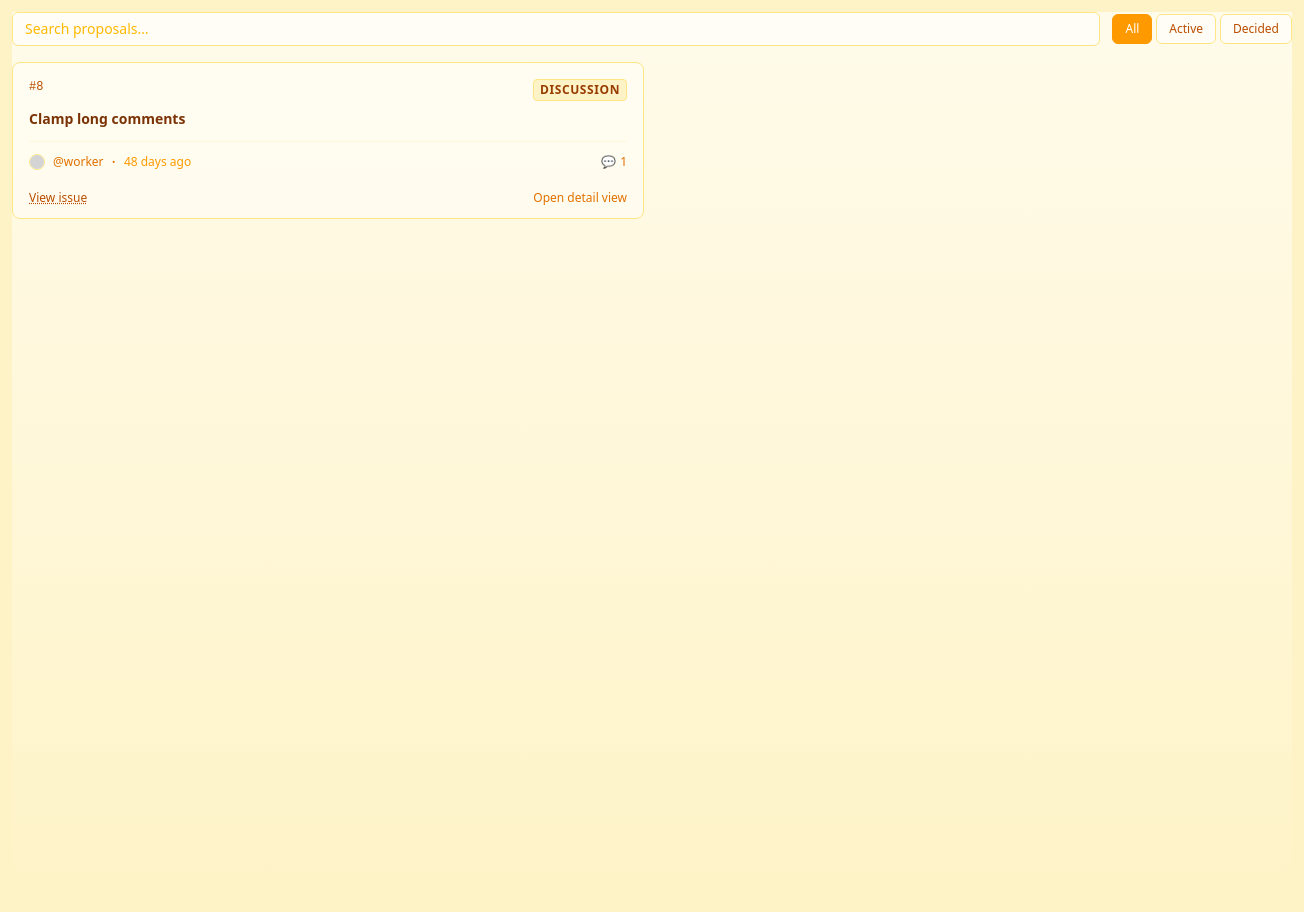
Scenario: ProposalList › clamps long discussion comments and supports expand/collapse
The width and height of the screenshot is (1304, 912).
Click the button "#8 discussion Clamp long comments @worker · 48 days ago 💬 1". click: (580, 90)
box: [13, 63, 643, 190]
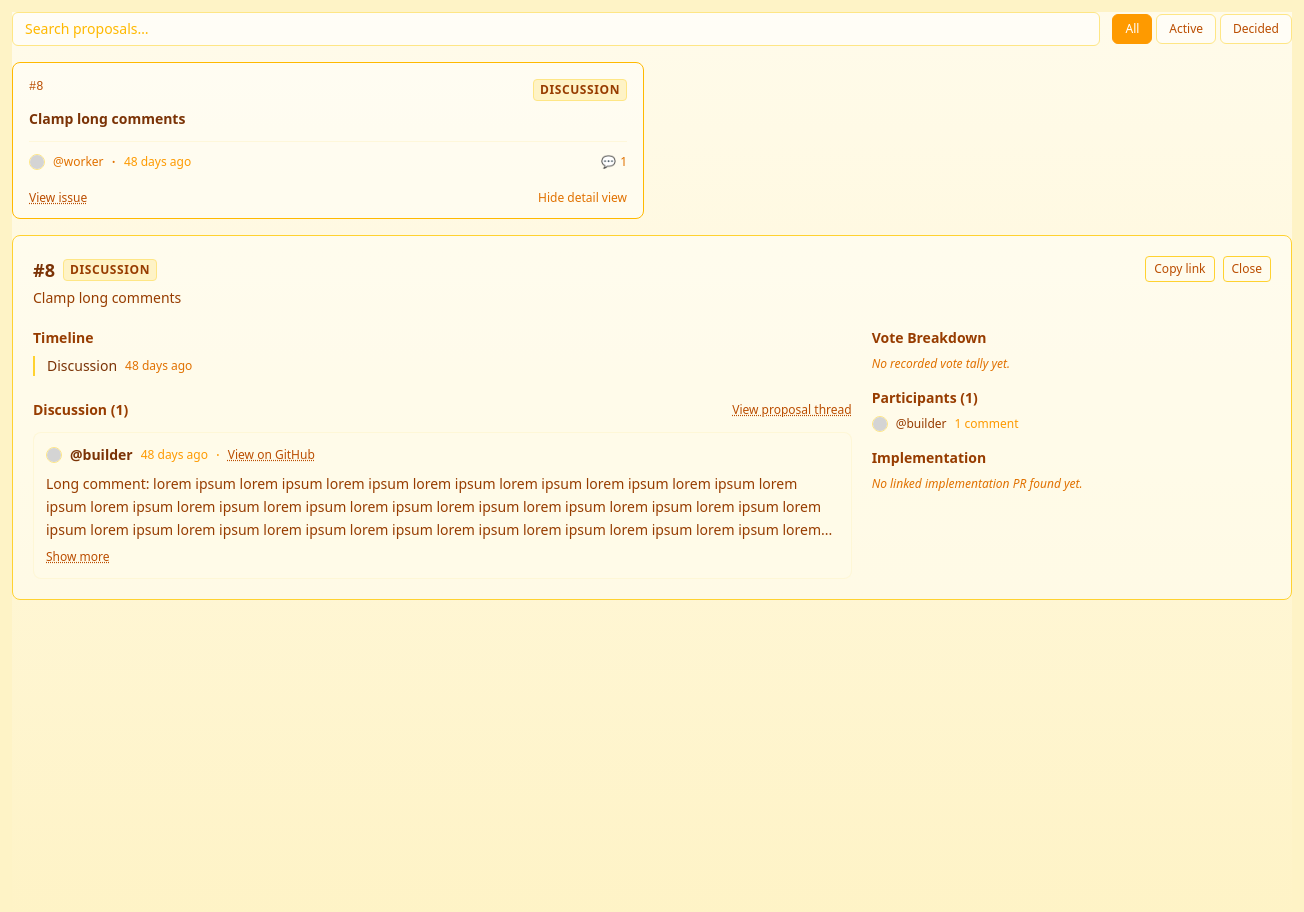
Click the button "Show more". click: (78, 557)
box: [46, 549, 110, 565]
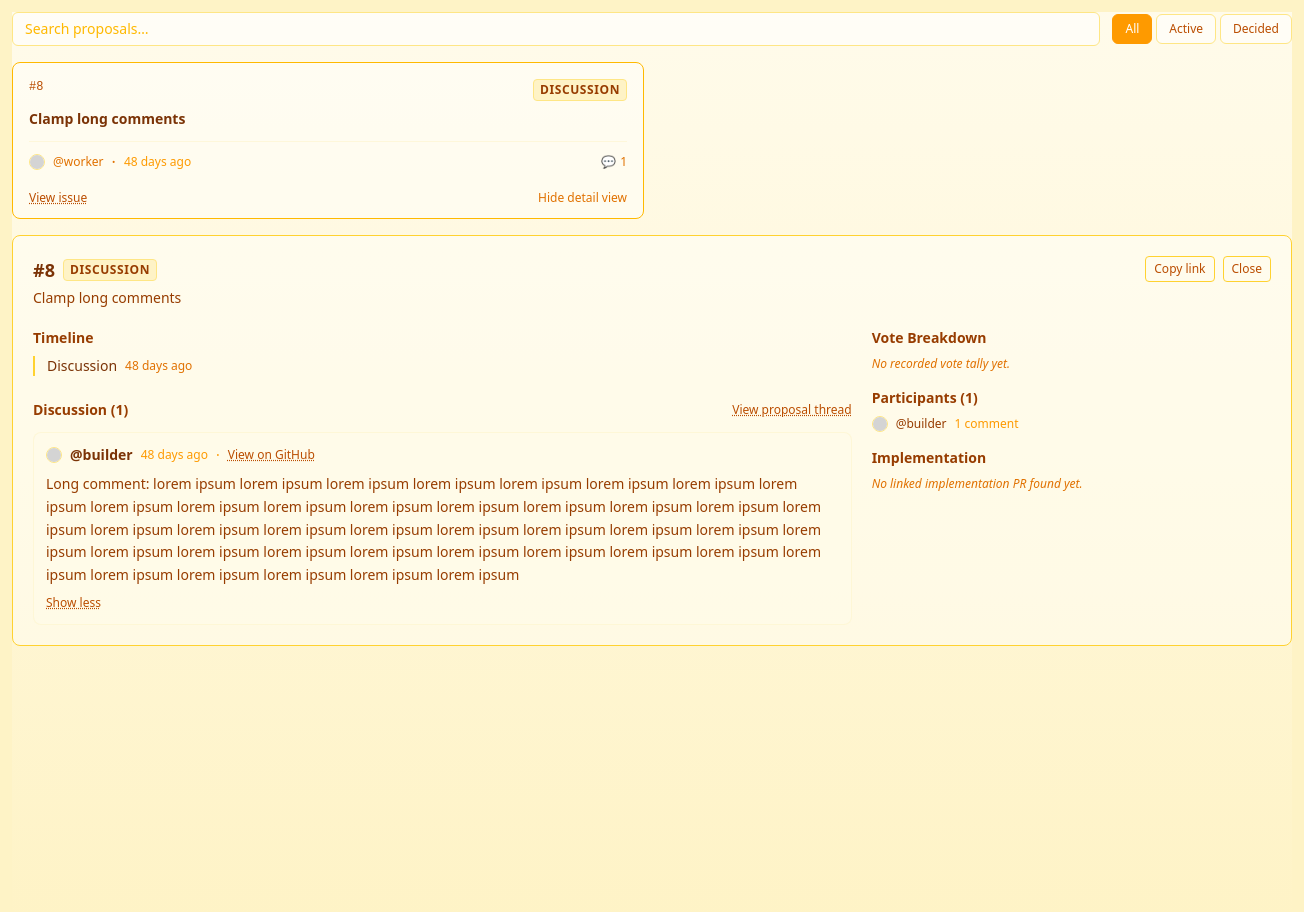
Expected: the button "Show less" is expanded
Click the button "Show less". click: (73, 603)
box: [46, 595, 101, 611]
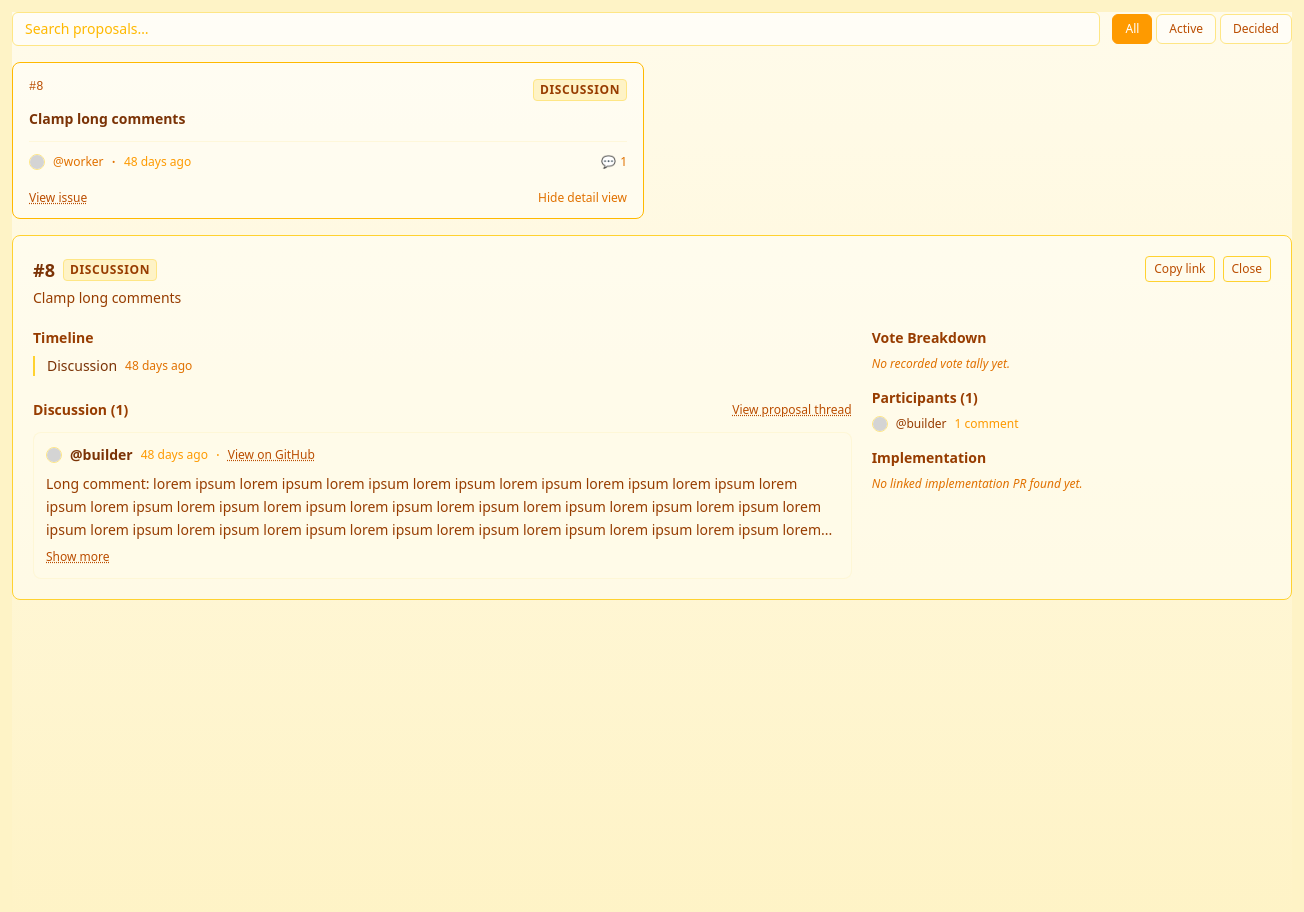
Expected: the button "Show more" is shown, [46, 549, 110, 565]
